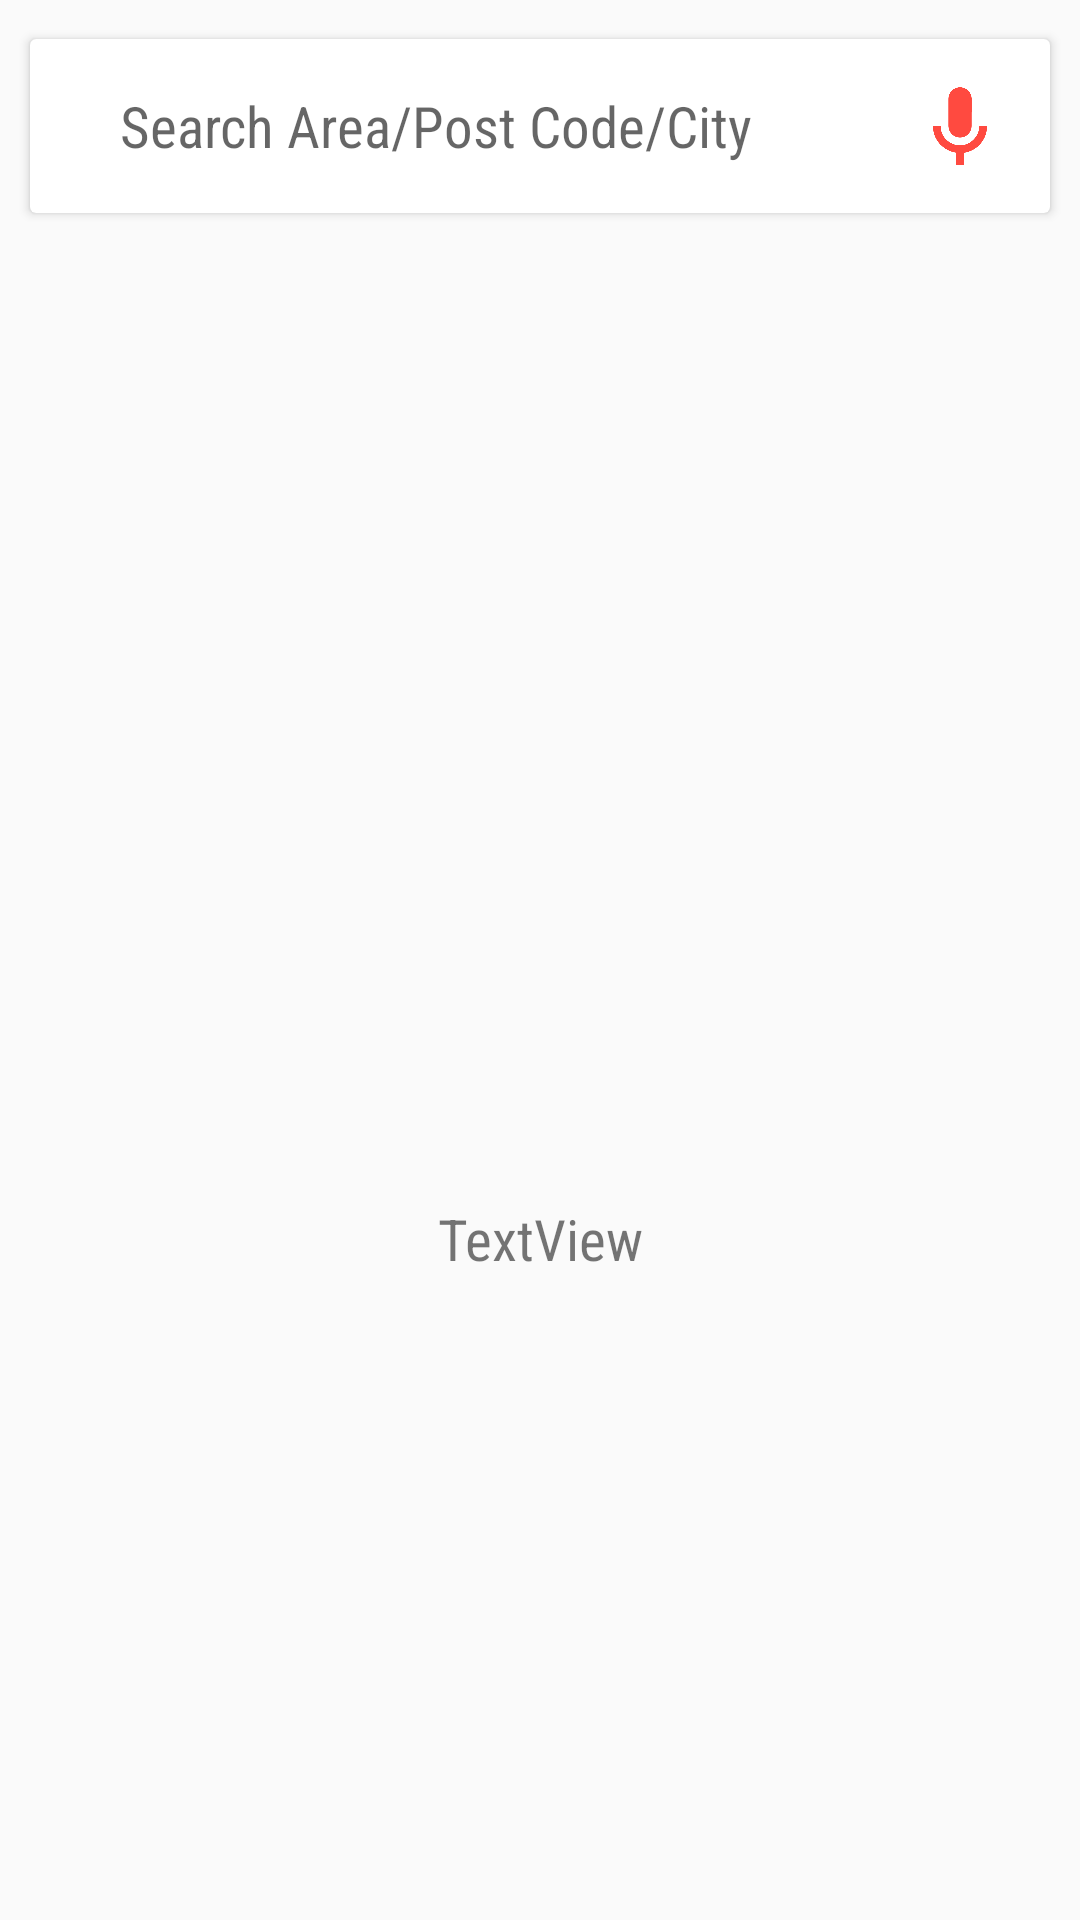

Where icons sit on this 1080*1920 app screen, as (x1, y1, x2, y2):
microphone: (933, 87, 987, 165)
